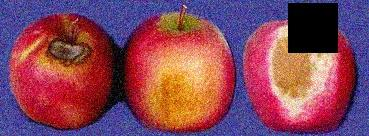red apple: (123, 10, 236, 133)
rotten apple: (240, 11, 360, 133), (9, 12, 116, 128)
